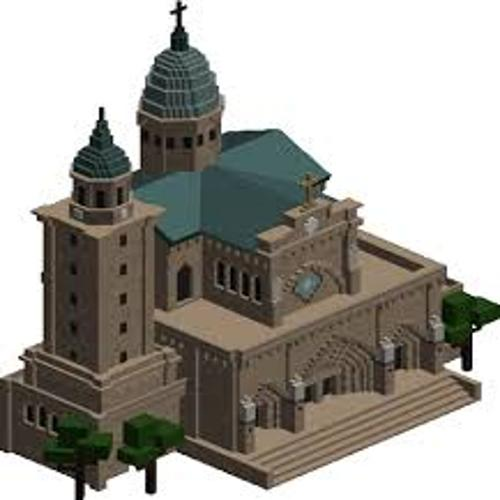Manila Cathedral Church: (19, 7, 470, 482)
